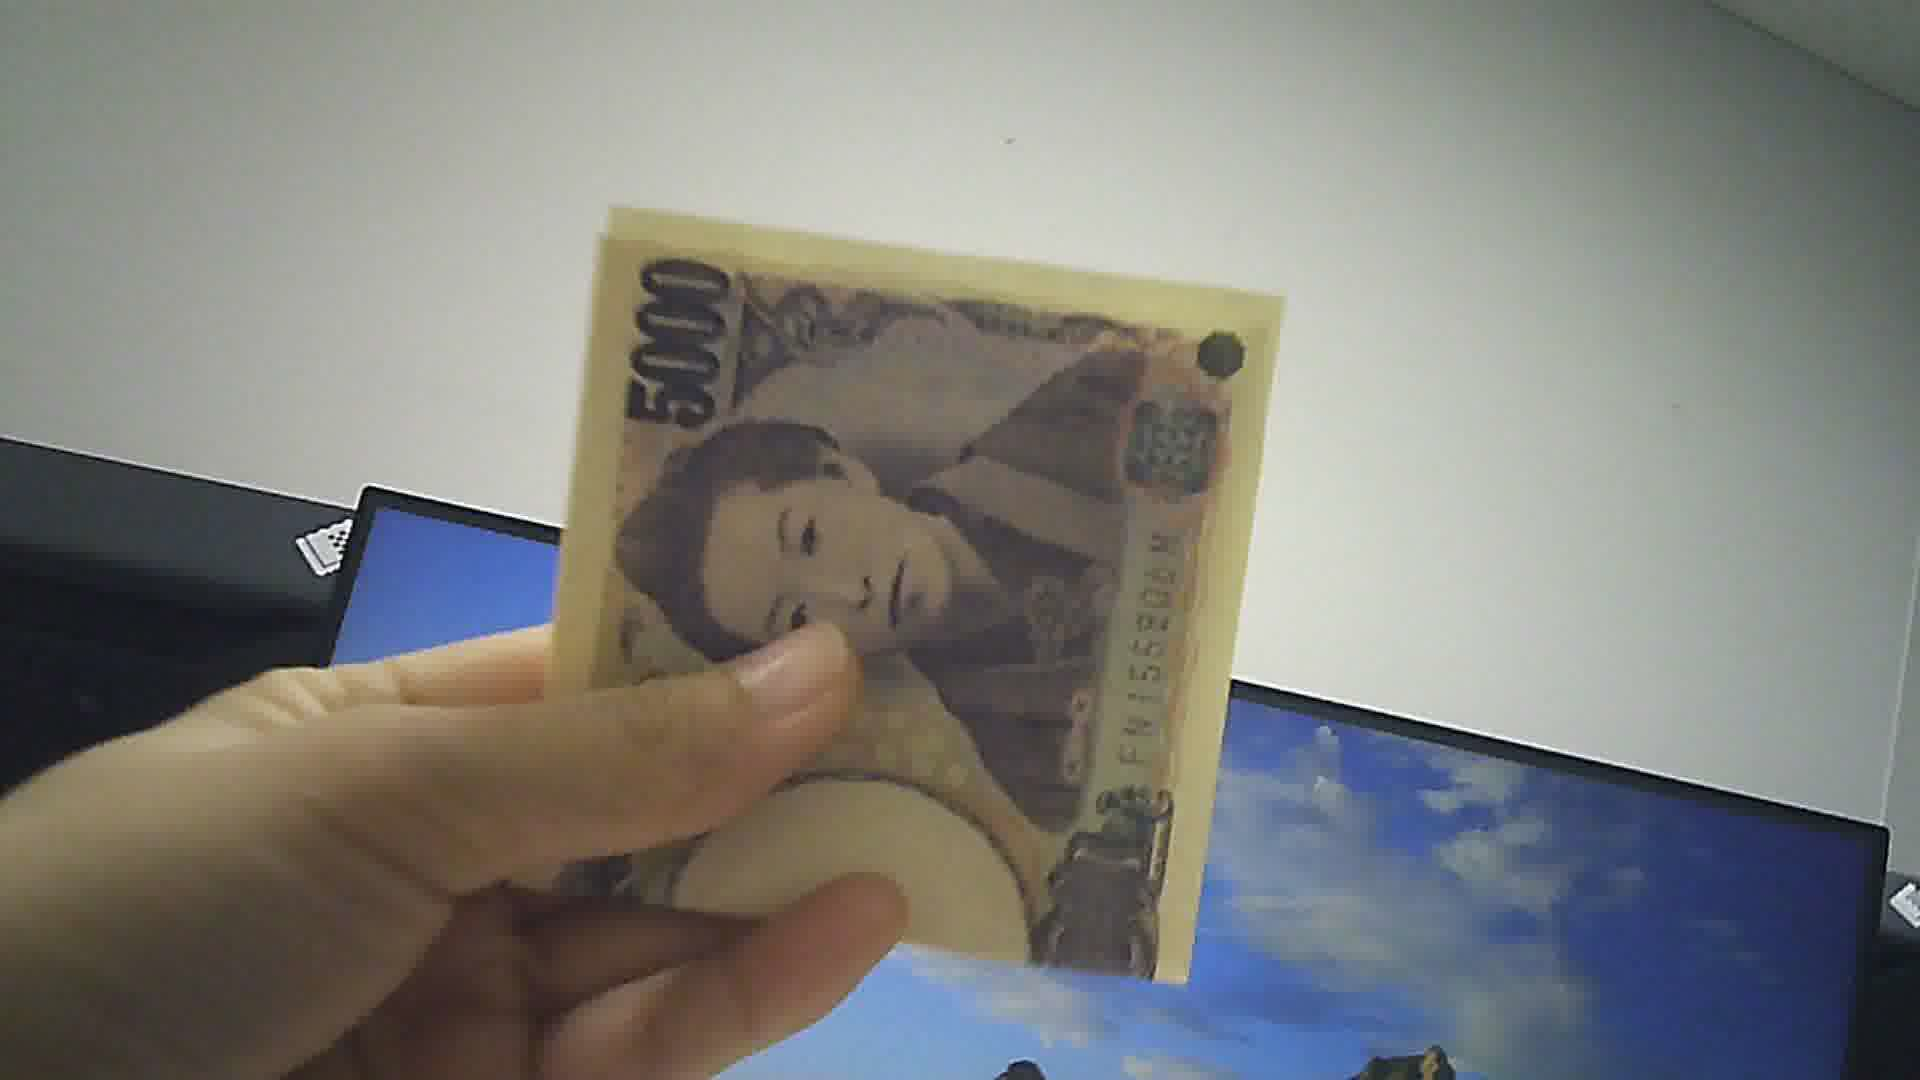5,000 Yen: (506, 193, 1269, 997)
